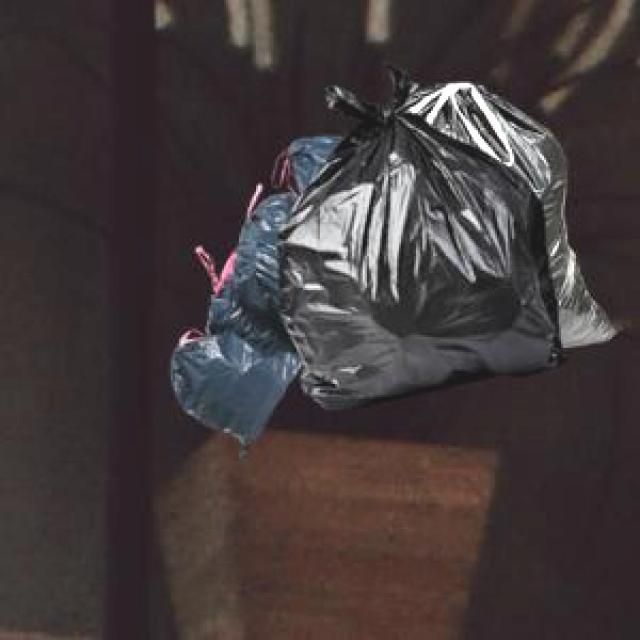Trashbag: (275, 111, 567, 408), (165, 325, 302, 452)
